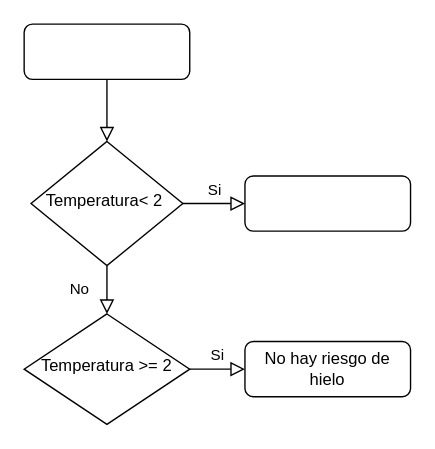
Some shapes in this 435 by 449 pixel diagram are drawn without their labels. Each missing label, with the centre of its shape:
"Introduce la temperatura" belongs at (106,51).
"¡Riesgo de hielo!" belongs at (327,203).
